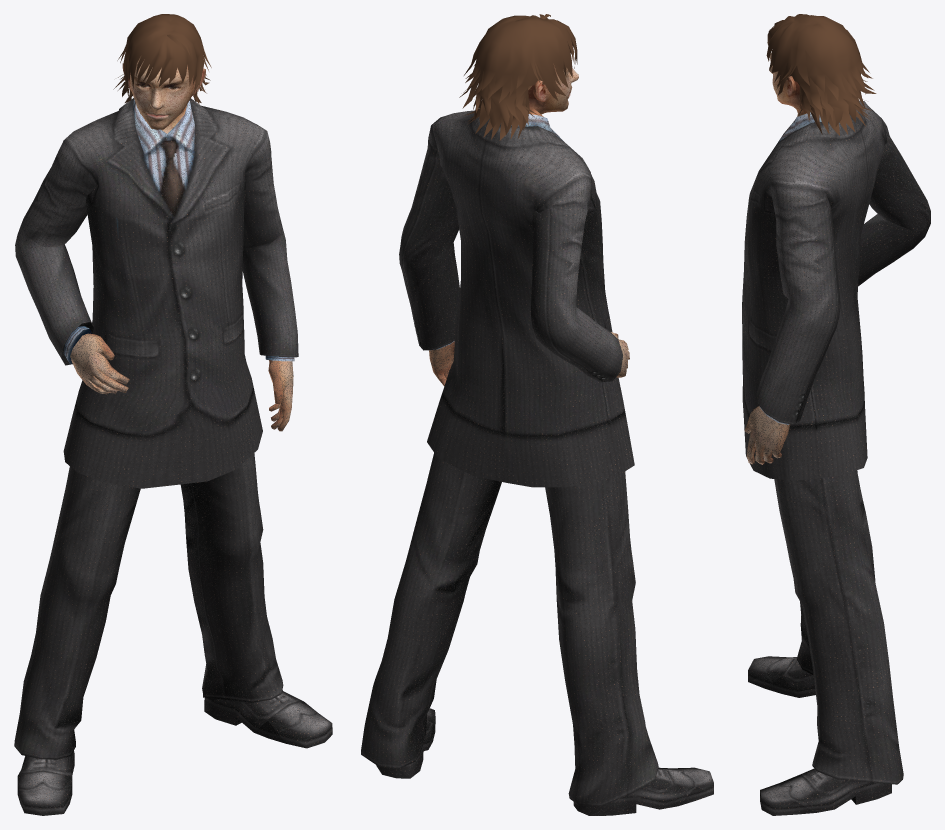
Rendered from Citizen_Extras_Male_02.fbx.
The picture shows the model from 3 angles, left to right: view 1: azimuth 30°, elevation 25°; view 2: azimuth 150°, elevation 25°; view 3: azimuth 270°, elevation 25°; orthographic projection. The views are drawn at different scales.
Visible parts, largest first — view 1: body1; view 2: body1; view 3: body1.
Part boxes in pixels (<box>): body1: <box>14,14,332,815</box>; body1: <box>361,14,713,815</box>; body1: <box>742,14,930,815</box>.
Size of the model in its own units: 2.04 by 4.64 by 1.09.
